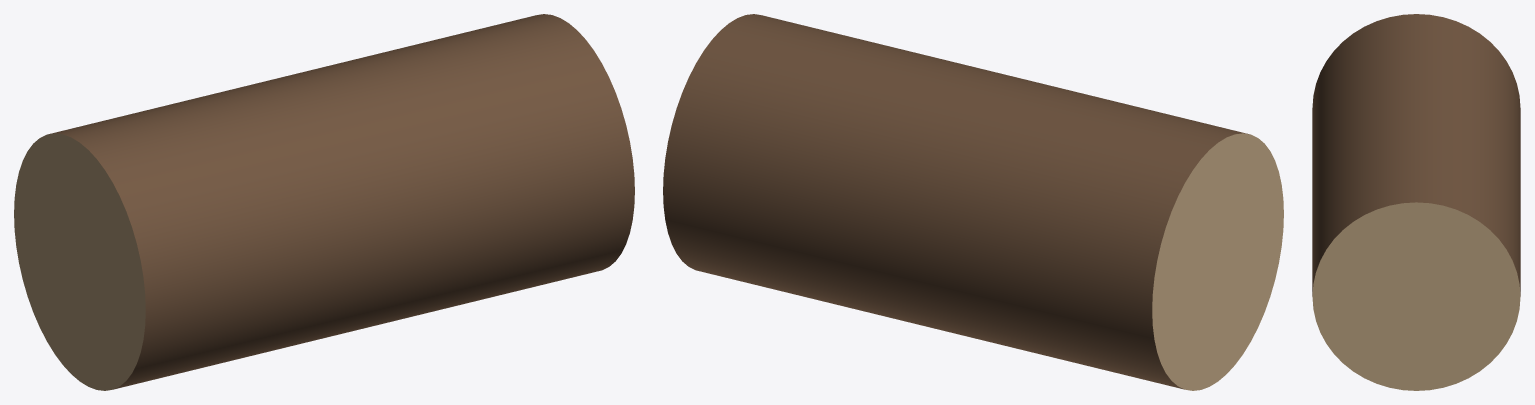
Rendered from SM_RawLog_Short_02.fbx.
3 renders of one model, left to right at view 1: azimuth 30°, elevation 25°; view 2: azimuth 150°, elevation 25°; view 3: azimuth 270°, elevation 25°, orthographic. The views are drawn at different scales.
Parts seen in each view (by area): view 1: RawLog_Short_02; view 2: RawLog_Short_02; view 3: RawLog_Short_02.
Boxes of the visible parts, left/top/right/bottom form: RawLog_Short_02: left=14, top=14, right=634, bottom=390; RawLog_Short_02: left=663, top=14, right=1283, bottom=390; RawLog_Short_02: left=1312, top=14, right=1520, bottom=390.
Size of what is drawn, in the model's own units: 0.75 by 0.35 by 0.35.
